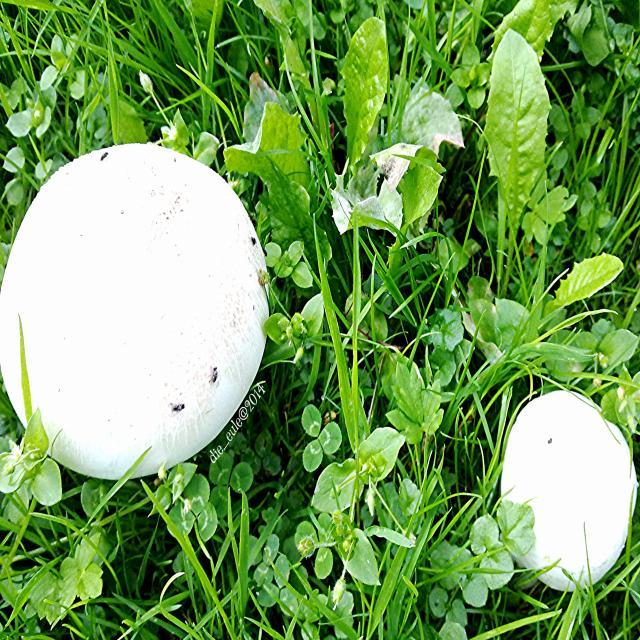Agaricus bisporus: (0, 142, 268, 482), (501, 392, 638, 586)
